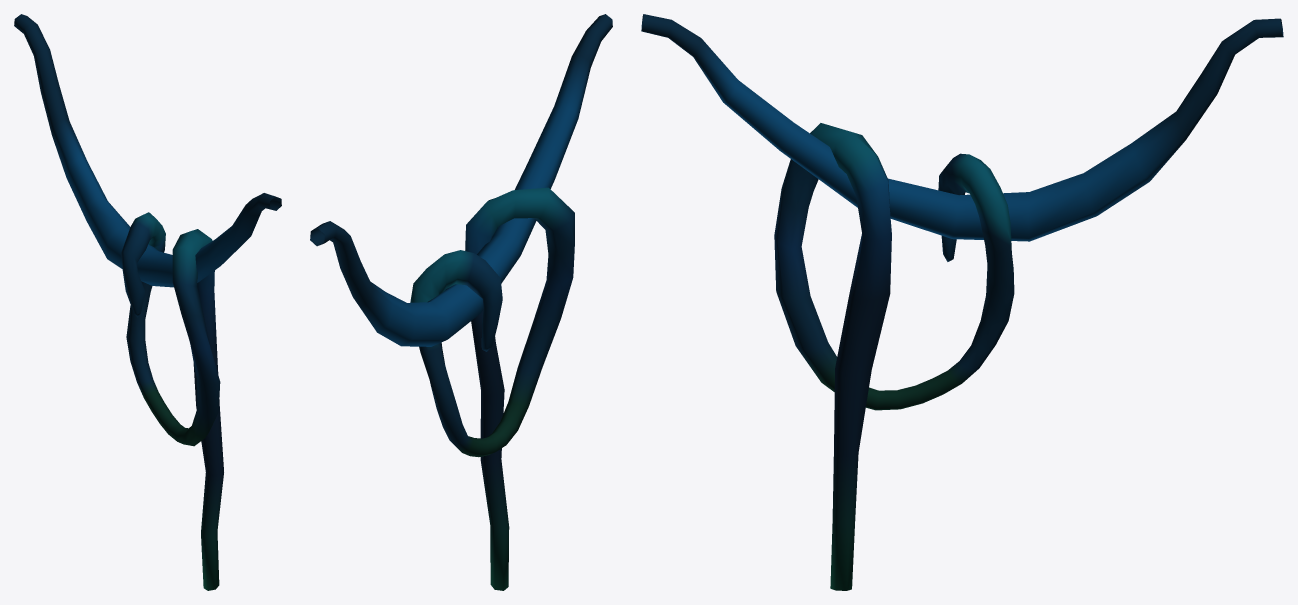
The model's file is Alien_SkyRoot05.fbx.
The picture shows the model from 3 angles, left to right: view 1: azimuth 30°, elevation 25°; view 2: azimuth 150°, elevation 25°; view 3: azimuth 270°, elevation 25°; orthographic projection. The views are drawn at different scales.
Parts seen in each view (by area): view 1: Alien_SkyRoot05; view 2: Alien_SkyRoot05; view 3: Alien_SkyRoot05.
Boxes of the visible parts, x1=… form: Alien_SkyRoot05: x1=14, y1=14, x2=281, y2=590; Alien_SkyRoot05: x1=310, y1=14, x2=612, y2=590; Alien_SkyRoot05: x1=641, y1=14, x2=1283, y2=590.
Size of the model in its own units: 781 by 5028 by 5153.
